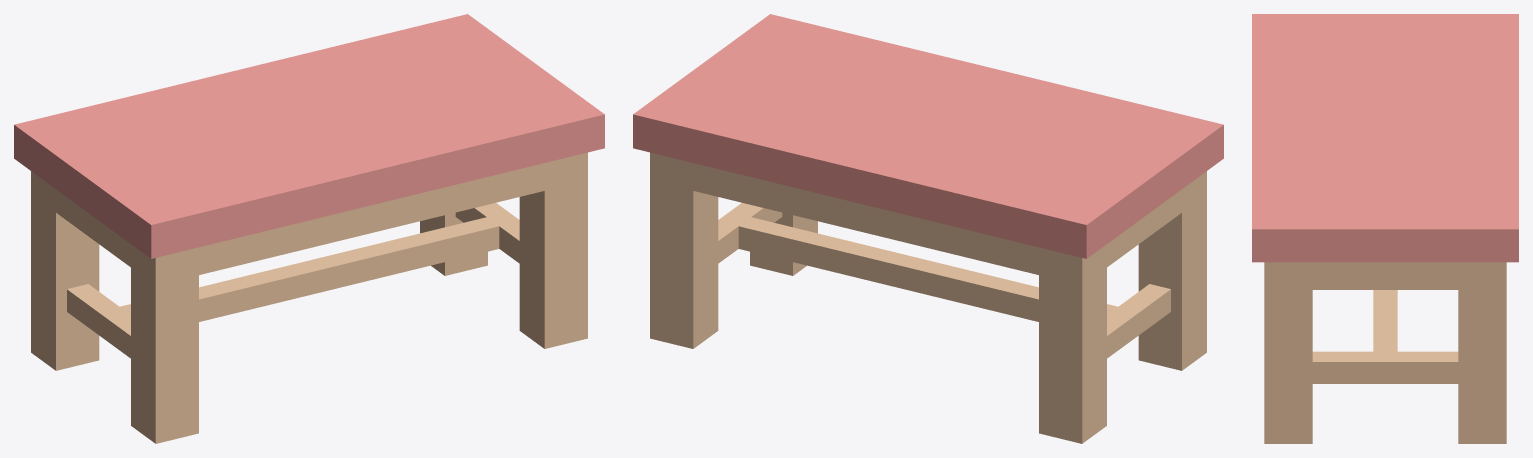
The model's file is benchCushionLow.glb.
3 views of the same model, side by side, from view 1: azimuth 30°, elevation 25°; view 2: azimuth 150°, elevation 25°; view 3: azimuth 270°, elevation 25° (orthographic). The views are drawn at different scales.
Parts seen in each view (by area): view 1: benchCushionLow(Clone); view 2: benchCushionLow(Clone); view 3: benchCushionLow(Clone).
Boxes of the visible parts, <box> form: benchCushionLow(Clone): <box>14,14,604,443</box>; benchCushionLow(Clone): <box>633,14,1223,443</box>; benchCushionLow(Clone): <box>1252,14,1518,443</box>.
Bounding box in the file's own units: 0.8526 × 0.406 × 0.4466.
3 materials, 3 textured.
